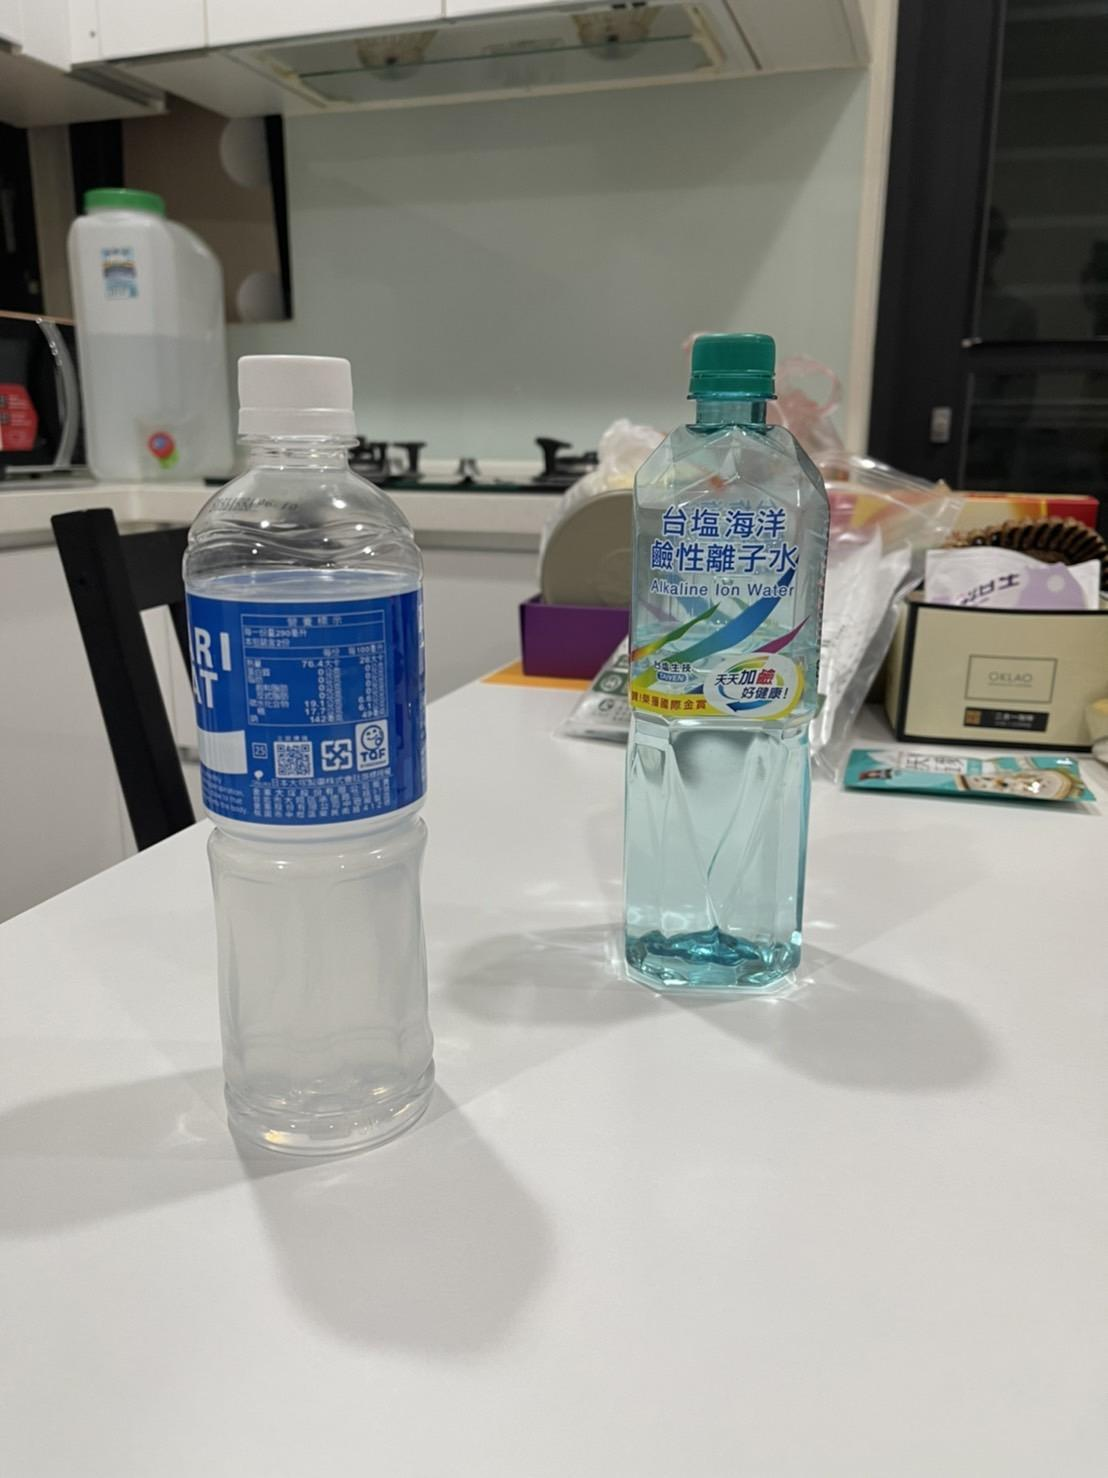bottle: (176, 333, 438, 1150), (594, 312, 841, 1014)
